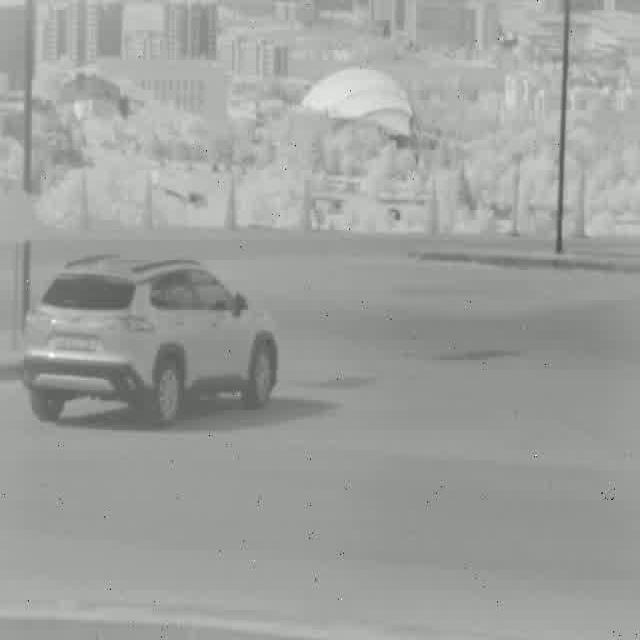Car: (20, 253, 277, 419)
